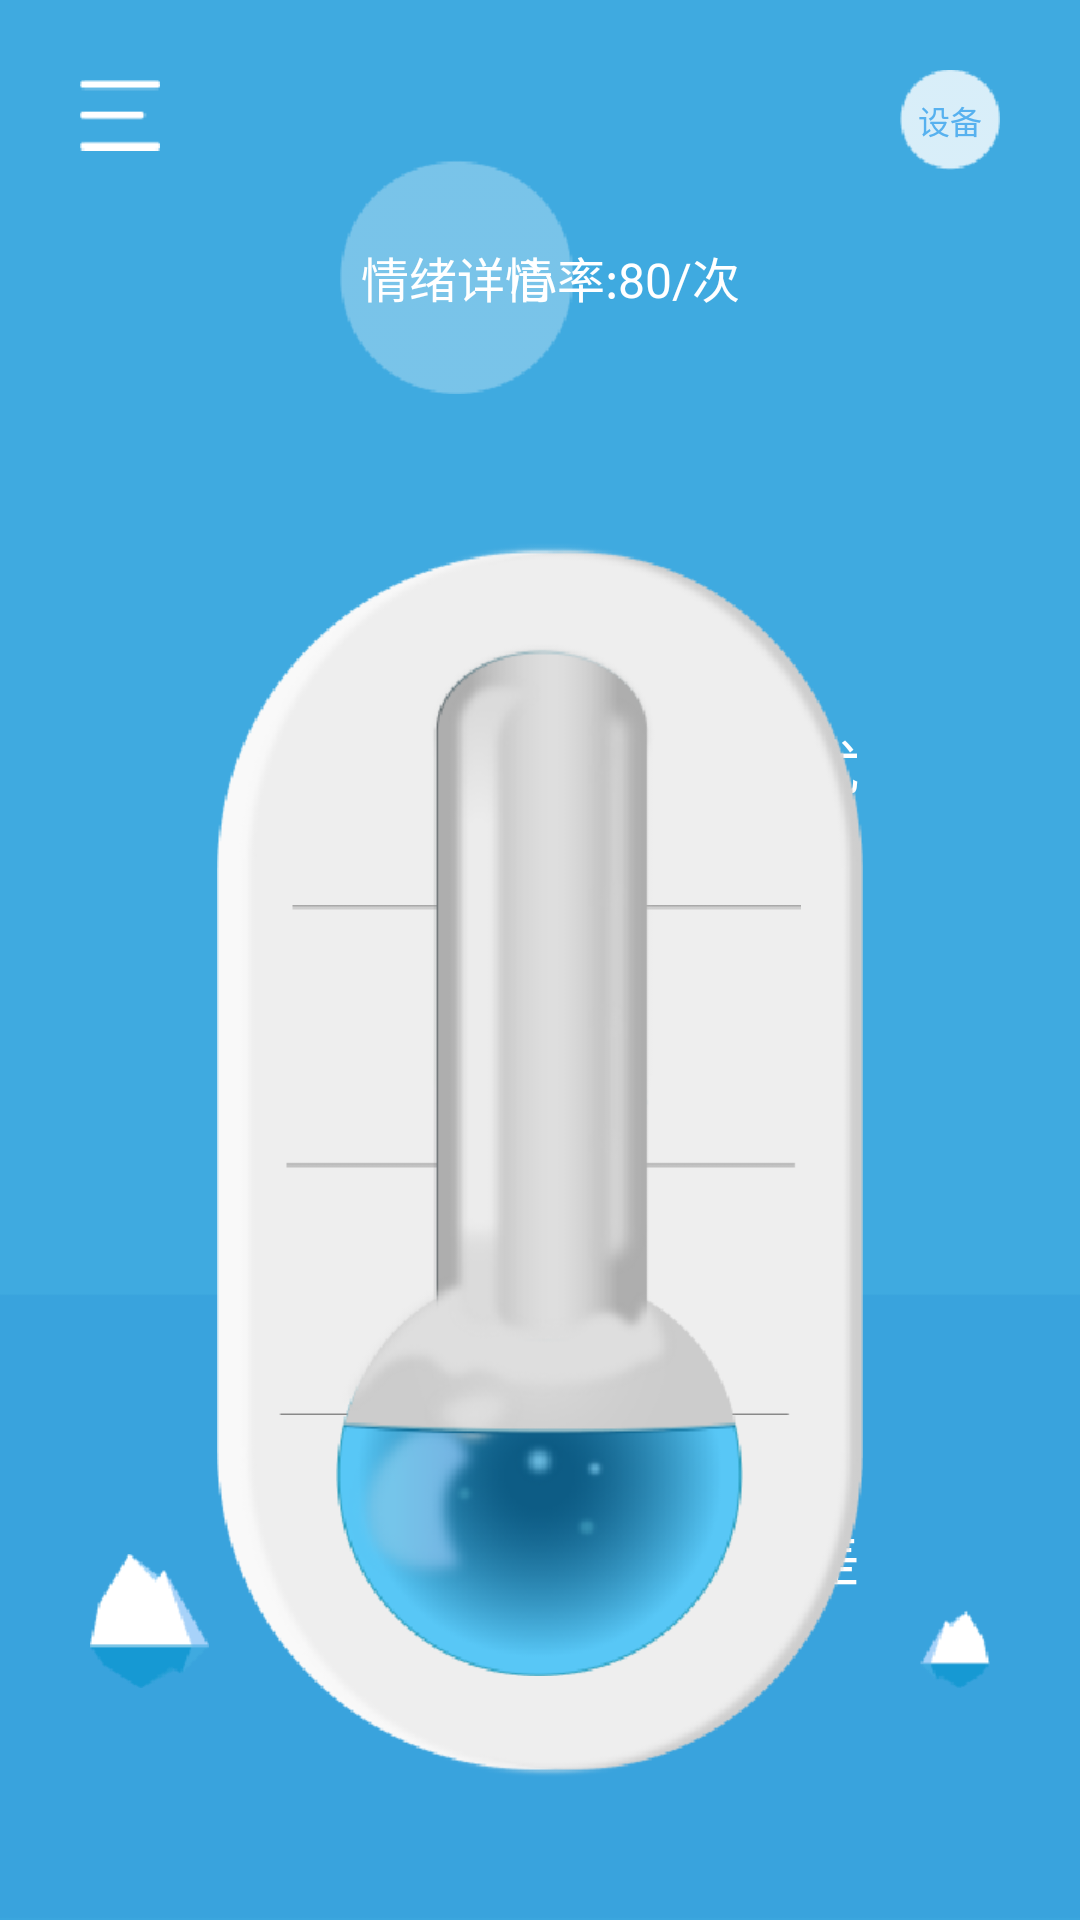

Locate icon controls on the screen. Image size 1080px x 1920px, boxes as (x1, y1, x2, y2).
home ice left: (90, 1554, 209, 1687)
home ice right: (920, 1611, 990, 1687)
